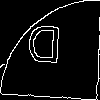D: (24, 25, 63, 73)
